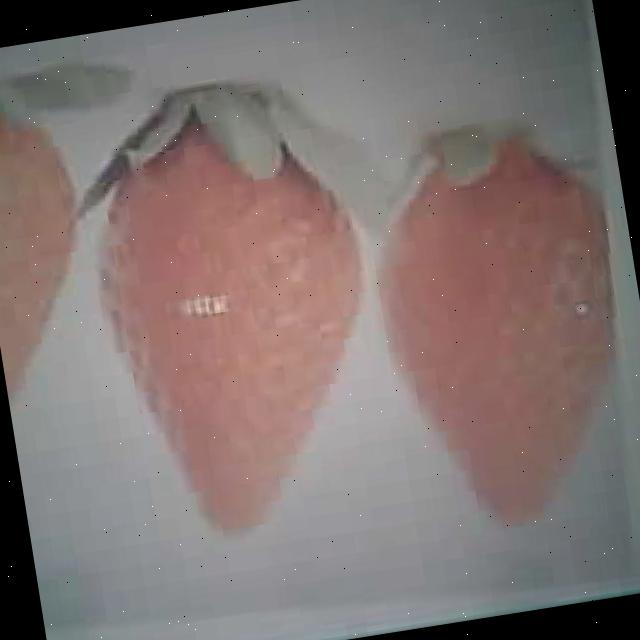strawberry: (87, 99, 402, 544), (359, 131, 640, 537)
